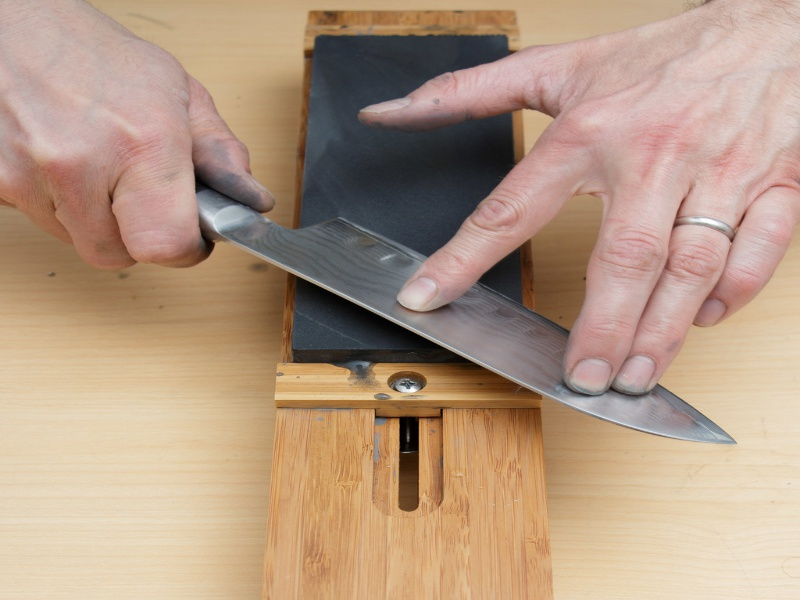knife: (174, 171, 744, 449)
